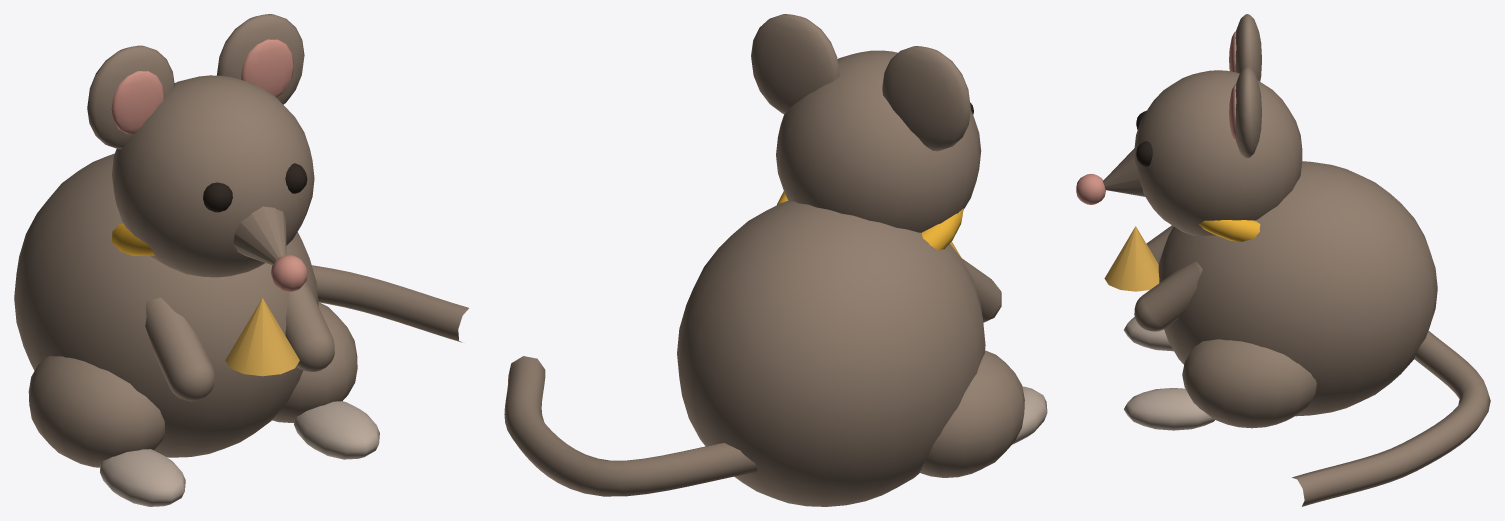
The model's file is mushak.glb.
3 views of the same model, side by side, from view 1: azimuth 30°, elevation 25°; view 2: azimuth 150°, elevation 25°; view 3: azimuth 270°, elevation 25° (orthographic). The views are drawn at different scales.
Visible parts, largest first — view 1: mushak; view 2: mushak; view 3: mushak.
Part boxes in pixels (x1=…): mushak: x1=14, y1=14, x2=468, y2=506; mushak: x1=504, y1=14, x2=1047, y2=506; mushak: x1=1076, y1=14, x2=1490, y2=506.
Size of the model in its own units: 0.2019 by 0.1786 by 0.1856.
